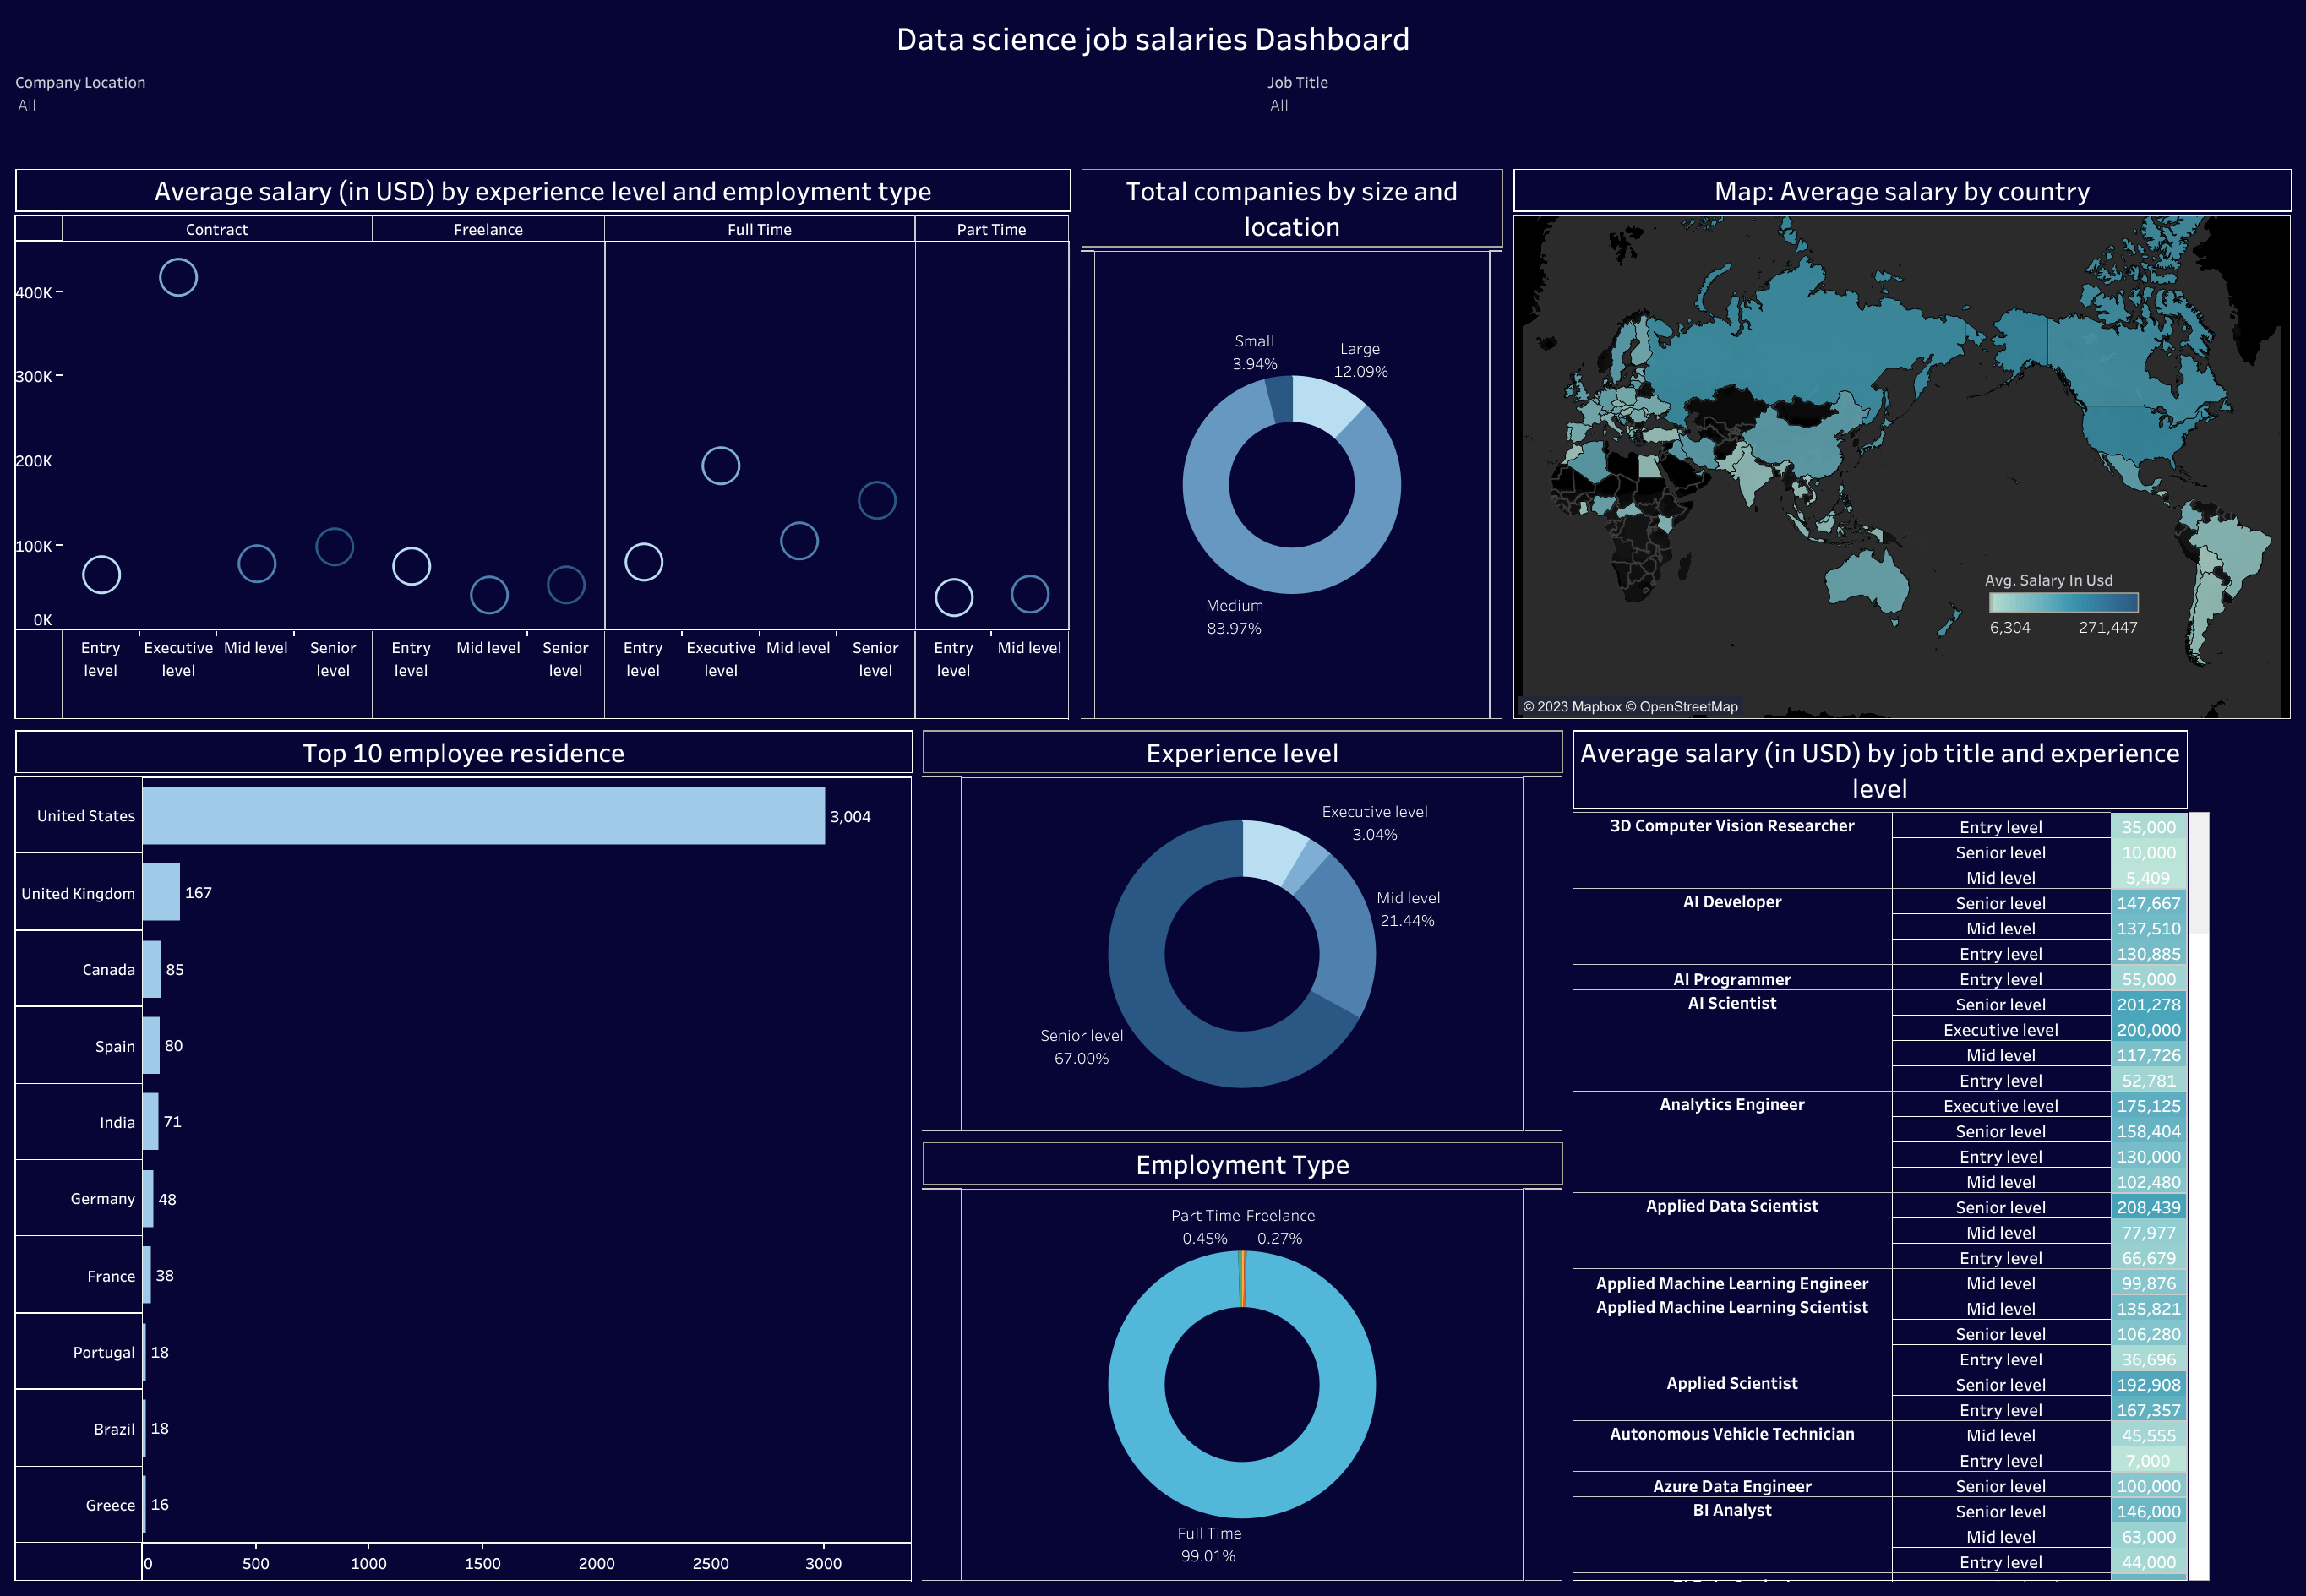

Layout of this report page (visuals, bound fields, positions):
{"tool":"tableau","page":{"name":"Data science job salaries Dashboard","canvas":[1000,1000],"units":"permille","ordinal":0},"visuals":[{"type":"title","box":[4.4,6.4,991.2,46]},{"type":"filter","title":"Total companies by size and location","param":"[federated.0zsnegd01sb9m214rz6m21ll6gm2].[none:company_location:nk]","box":[4.4,52.4,542.6,55.6]},{"type":"filter","title":"Map: Average salary by country","param":"[federated.0zsnegd01sb9m214rz6m21ll6gm2].[none:job_title:nk]","box":[547,52.4,448.6,61.7]},{"type":"worksheet","title":"Average salary (in USD) by experience level and employment type","mark":"Shape","rows":["salary_in_usd"],"cols":["employment_type","experience_level"],"box":[4.4,114.1,462.1,344.7]},{"type":"worksheet","title":"Total companies by size and location","mark":"Pie","rows":["Calculation_1305762481681313793","Calculation_1305762481681313793"],"box":[466.4,114.1,206,344.7]},{"type":"worksheet","title":"Map: Average salary by country","mark":"Automatic","box":[672.5,114.1,323.1,344.7]},{"type":"legend","title":"Map: Average salary by country","param":"[federated.0zsnegd01sb9m214rz6m21ll6gm2].[avg:salary_in_usd:qk]","box":[860.4,352.4,69.2,79.4]},{"type":"worksheet","title":"Top 10 employee residence","mark":"Automatic","rows":["employee_residence"],"cols":["employee_residence"],"box":[4.4,458.7,393.6,534.9]},{"type":"worksheet","title":"Experience level","mark":"Pie","rows":["Calculation_1305762481681313793","Calculation_1305762481681313793"],"box":[398,458.7,281.6,246]},{"type":"worksheet","title":"Average salary (in USD) by job title and experience level","mark":"Square","rows":["job_title","experience_level"],"box":[679.6,458.7,316,534.9]},{"type":"worksheet","title":"Employment Type","mark":"Pie","rows":["Calculation_1305762481681313793","Calculation_1305762481681313793"],"box":[398,704.8,281.6,288.9]}]}

Visuals, with their boxes on the dashboard's canvas, which has no fixed pixel size, in thousandths of its width and height (x1, y1, x2, y2). These are canvas units, not pixel positions in the 2306x1596 screenshot, which may show the page scaled, cropped or inside an application window:
title: [x1=4, y1=6, x2=996, y2=52]
"Total companies by size and location" filter: [x1=4, y1=52, x2=547, y2=108]
"Map: Average salary by country" filter: [x1=547, y1=52, x2=996, y2=114]
"Average salary (in USD) by experience level and employment type" worksheet (Shape marks): [x1=4, y1=114, x2=466, y2=459]
"Total companies by size and location" worksheet (Pie marks): [x1=466, y1=114, x2=672, y2=459]
"Map: Average salary by country" worksheet: [x1=672, y1=114, x2=996, y2=459]
"Map: Average salary by country" legend: [x1=860, y1=352, x2=930, y2=432]
"Top 10 employee residence" worksheet: [x1=4, y1=459, x2=398, y2=994]
"Experience level" worksheet (Pie marks): [x1=398, y1=459, x2=680, y2=705]
"Average salary (in USD) by job title and experience level" worksheet (Square marks): [x1=680, y1=459, x2=996, y2=994]
"Employment Type" worksheet (Pie marks): [x1=398, y1=705, x2=680, y2=994]
